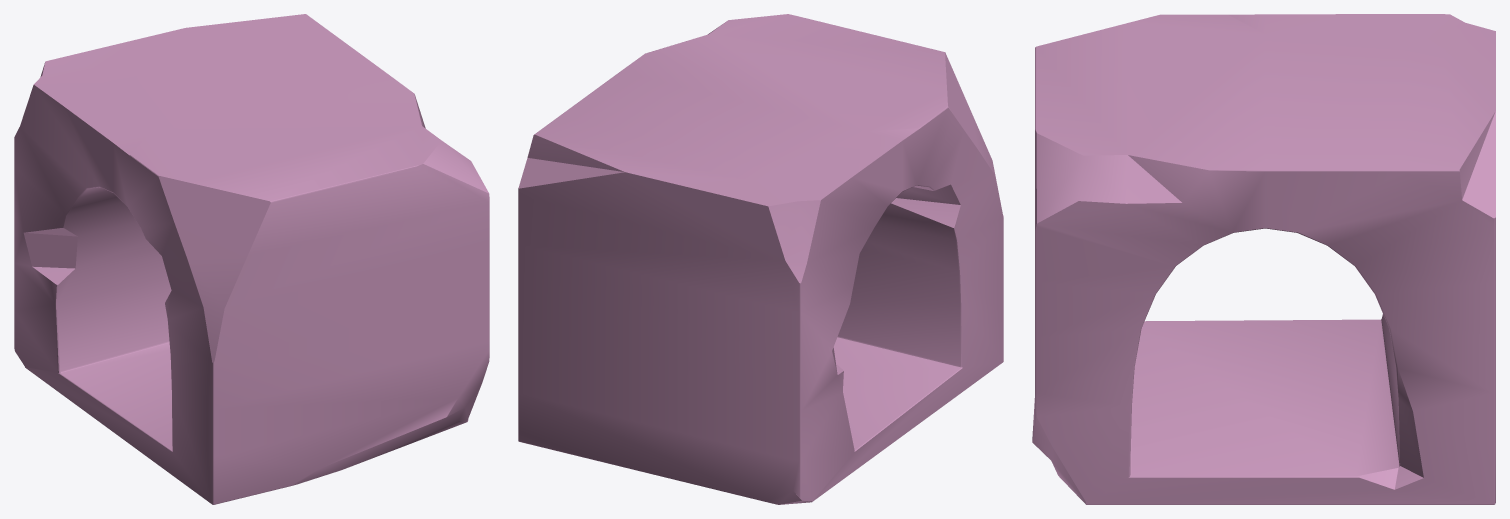
File: kocia_chatka_prosta.fbx
3 renders of one model, left to right at view 1: azimuth 30°, elevation 25°; view 2: azimuth 150°, elevation 25°; view 3: azimuth 270°, elevation 25°, orthographic. The views are drawn at different scales.
Visible parts, largest first — view 1: kocia_chatka.002; view 2: kocia_chatka.002; view 3: kocia_chatka.002.
Boxes of the visible parts, x1,y1,x2,y2 form: kocia_chatka.002: [14, 14, 489, 504]; kocia_chatka.002: [518, 14, 1003, 504]; kocia_chatka.002: [1032, 14, 1495, 504].
Size of the model in its own units: 211 by 201 by 251.
